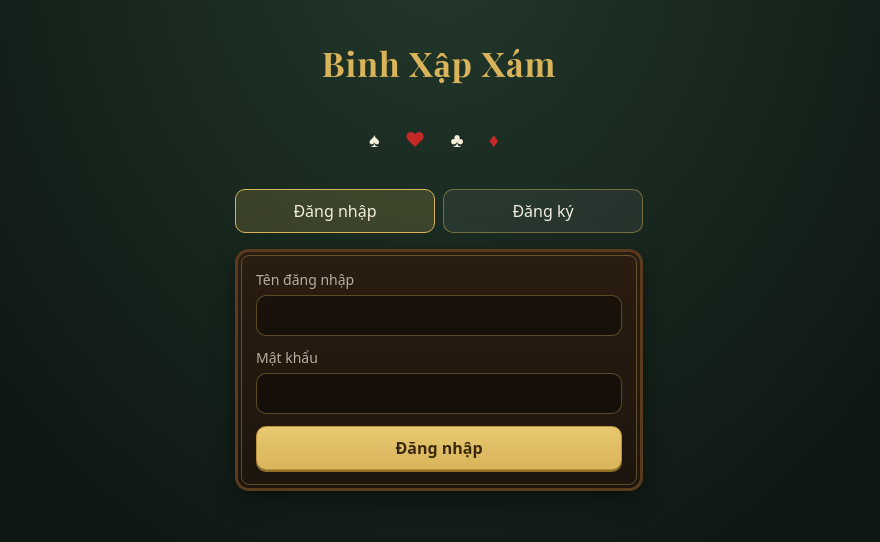
it: Login page › shows the server error after a failed login
Type "lam" into the field labelled "Tên đăng nhập" at [439, 316], box [256,295,622,336]
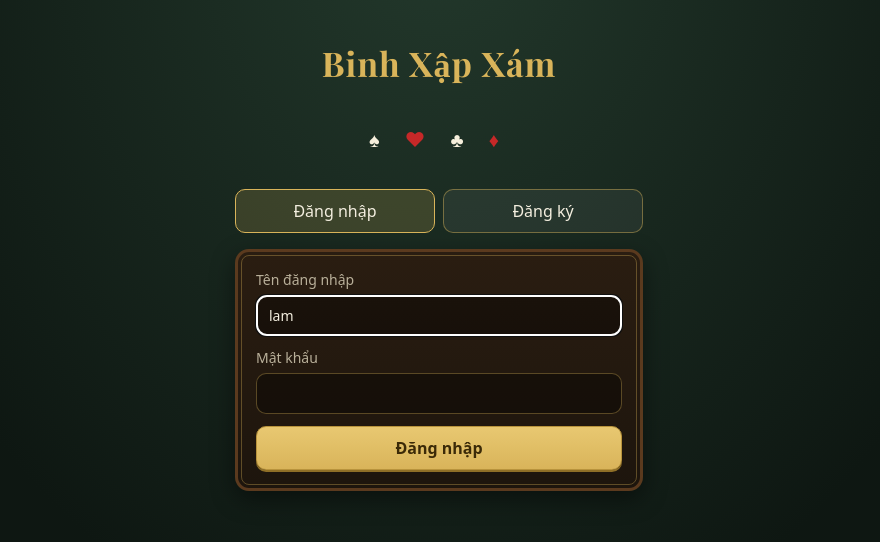
Type "wrong12" into the password field labelled "Mật khẩu" at [439, 394], box [256,373,622,414]
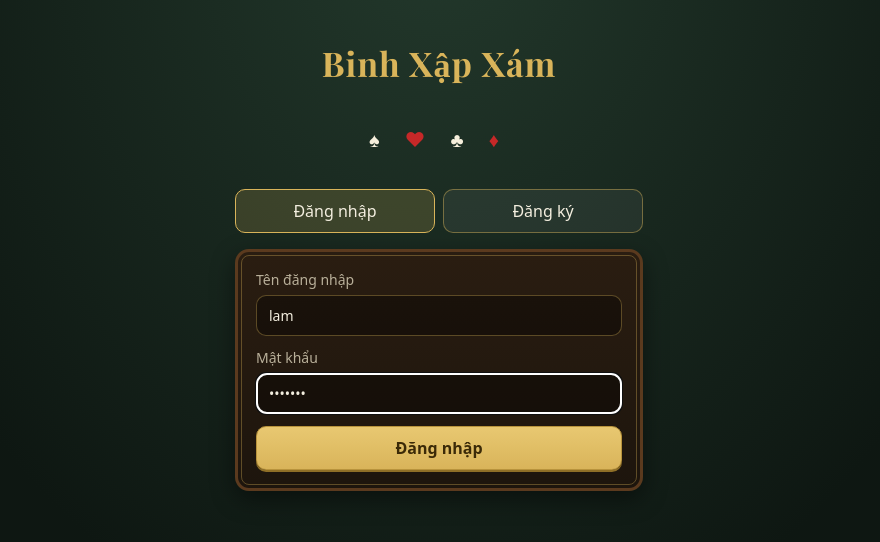
Click the button "Đăng nhập" at [439, 448], box [256,426,622,470]
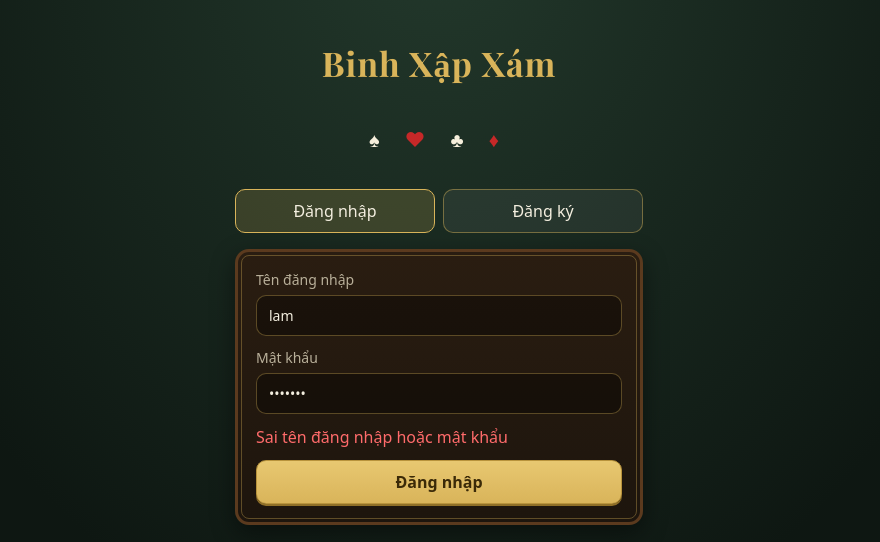
expect the text "Sai tên đăng nhập hoặc mật khẩu" is shown: met, box [256,426,508,448]
